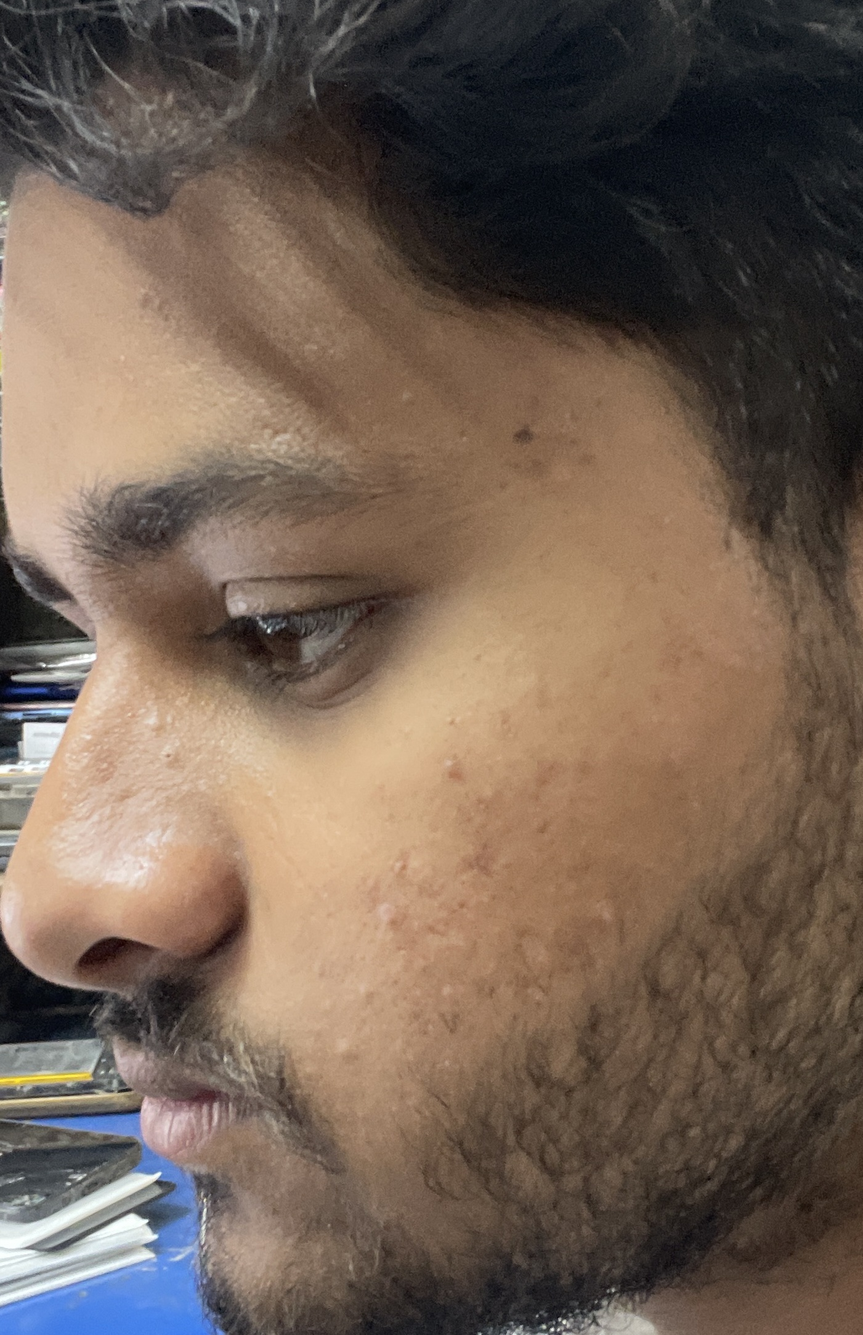papule: (436, 747, 493, 802), (315, 1022, 363, 1079), (363, 890, 418, 934)
